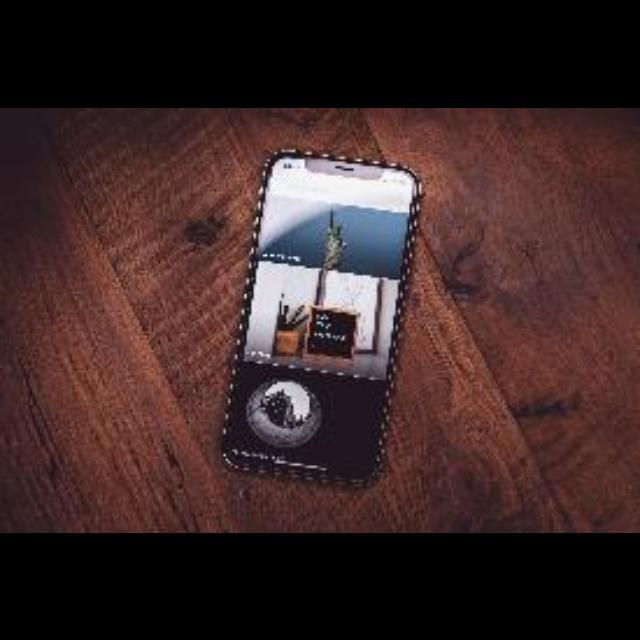Phone: (219, 150, 419, 488)
